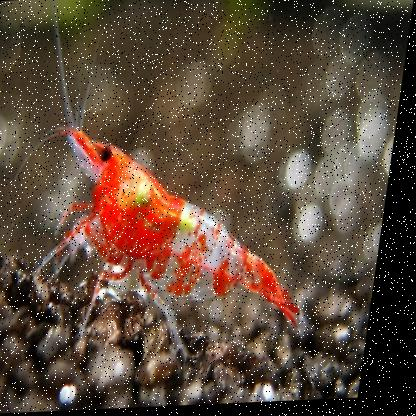shrimp: (37, 119, 330, 345)
